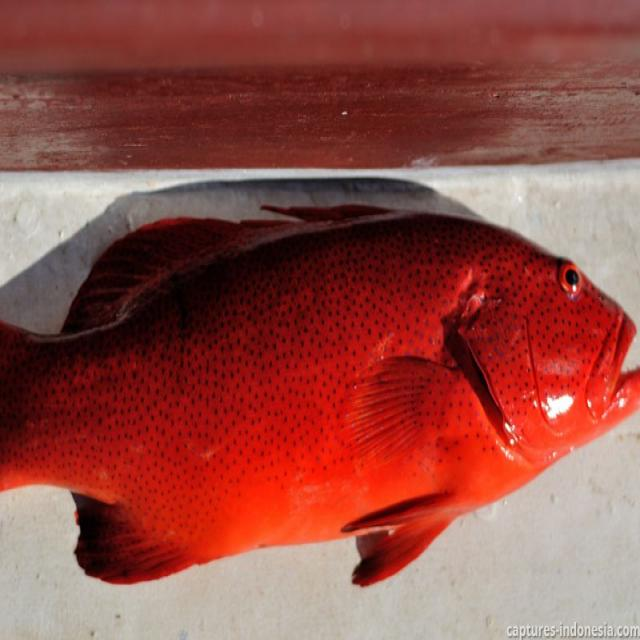Plectropomus-leopardus: (1, 159, 640, 604)
